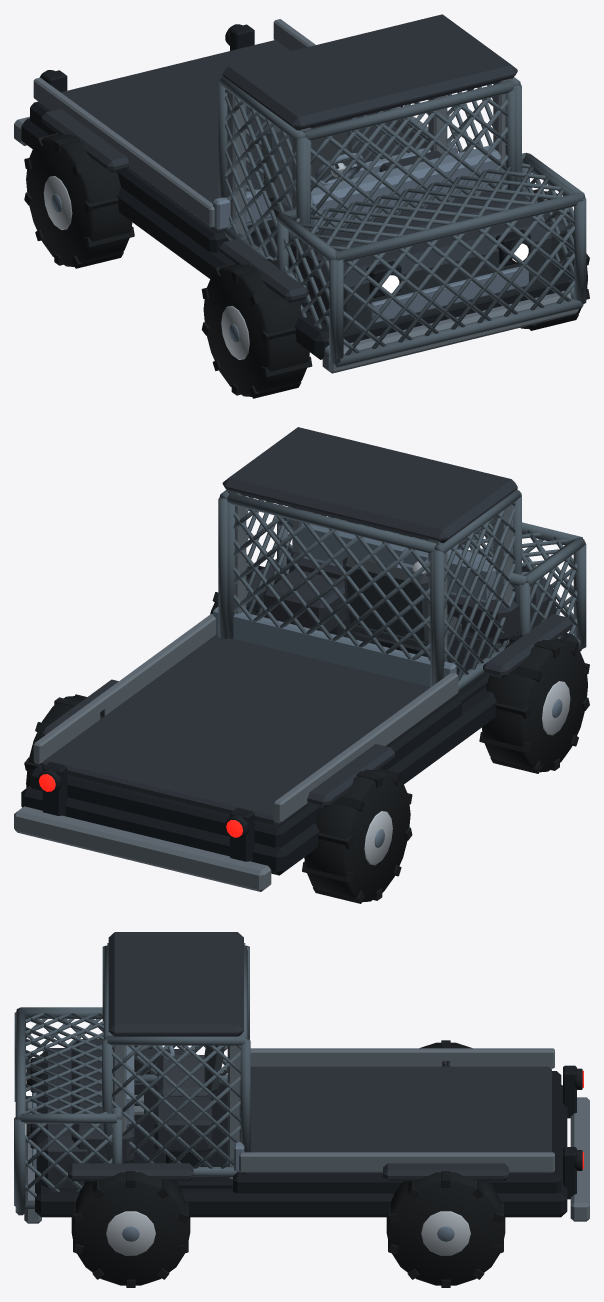
The model's file is ModularFarmBaseVehicle_Defend.glb.
3 views of the same model, one above another, from view 1: azimuth 30°, elevation 25°; view 2: azimuth 150°, elevation 25°; view 3: azimuth 270°, elevation 25° (orthographic). The views are drawn at different scales.
Parts seen in each view (by area): view 1: FTF_Vehicle_ModularFarmBase_Black_6_5m_Static, DefenseNet_Nose, DefenseNet_CabFront, Wheel_FL_Mesh, Wheel_RL_Mesh, DefenseNet_CabLeft, DefenseNet_CabRight, DefenseNet_CabRear, Wheel_FR_Mesh, RearLampHousing_Right_Mesh, SteeringWheel_Mesh; view 2: FTF_Vehicle_ModularFarmBase_Black_6_5m_Static, DefenseNet_CabRear, Wheel_FL_Mesh, Wheel_RL_Mesh, DefenseNet_CabLeft, DefenseNet_Nose, DefenseNet_CabRight, RearLampHousing_Right_Mesh, RearLampHousing_Left_Mesh, Wheel_RR_Mesh; view 3: FTF_Vehicle_ModularFarmBase_Black_6_5m_Static, DefenseNet_Nose, Wheel_FR_Mesh, Wheel_RR_Mesh, DefenseNet_CabRight, DefenseNet_CabLeft, RearLampHousing_Left_Mesh, RearLampHousing_Right_Mesh, DefenseNet_CabFront, DefenseNet_CabRear.
Part boxes in pixels (x1=…): FTF_Vehicle_ModularFarmBase_Black_6_5m_Static: x1=14, y1=14, x2=578, y2=373; DefenseNet_Nose: x1=276, y1=152, x2=586, y2=367; DefenseNet_CabFront: x1=302, y1=81, x2=516, y2=288; Wheel_FL_Mesh: x1=201, y1=259, x2=312, y2=398; Wheel_RL_Mesh: x1=24, y1=133, x2=134, y2=268; DefenseNet_CabLeft: x1=218, y1=76, x2=307, y2=287; DefenseNet_CabRight: x1=446, y1=77, x2=521, y2=191; DefenseNet_CabRear: x1=246, y1=102, x2=428, y2=225; Wheel_FR_Mesh: x1=520, y1=189, x2=589, y2=330; RearLampHousing_Right_Mesh: x1=225, y1=24, x2=254, y2=50; SteeringWheel_Mesh: x1=313, y1=153, x2=363, y2=185; FTF_Vehicle_ModularFarmBase_Black_6_5m_Static: x1=14, y1=427, x2=578, y2=891; DefenseNet_CabRear: x1=225, y1=493, x2=437, y2=687; Wheel_FL_Mesh: x1=479, y1=635, x2=589, y2=773; Wheel_RL_Mesh: x1=302, y1=768, x2=412, y2=903; DefenseNet_CabLeft: x1=433, y1=489, x2=521, y2=690; DefenseNet_Nose: x1=277, y1=512, x2=586, y2=651; DefenseNet_CabRight: x1=218, y1=490, x2=292, y2=638; RearLampHousing_Right_Mesh: x1=38, y1=762, x2=67, y2=816; RearLampHousing_Left_Mesh: x1=225, y1=807, x2=254, y2=861; Wheel_RR_Mesh: x1=24, y1=694, x2=104, y2=787; FTF_Vehicle_ModularFarmBase_Black_6_5m_Static: x1=24, y1=932, x2=589, y2=1223; DefenseNet_Nose: x1=14, y1=1007, x2=122, y2=1215; Wheel_FR_Mesh: x1=71, y1=1160, x2=190, y2=1287; Wheel_RR_Mesh: x1=386, y1=1171, x2=505, y2=1287; DefenseNet_CabRight: x1=102, y1=1035, x2=250, y2=1176; DefenseNet_CabLeft: x1=102, y1=943, x2=249, y2=1084; RearLampHousing_Left_Mesh: x1=563, y1=1065, x2=582, y2=1118; RearLampHousing_Right_Mesh: x1=563, y1=1147, x2=582, y2=1199; DefenseNet_CabFront: x1=104, y1=945, x2=112, y2=1131; DefenseNet_CabRear: x1=239, y1=945, x2=247, y2=1141.
Bounding box in the file's own units: 3.81 × 3.03 × 6.6.
